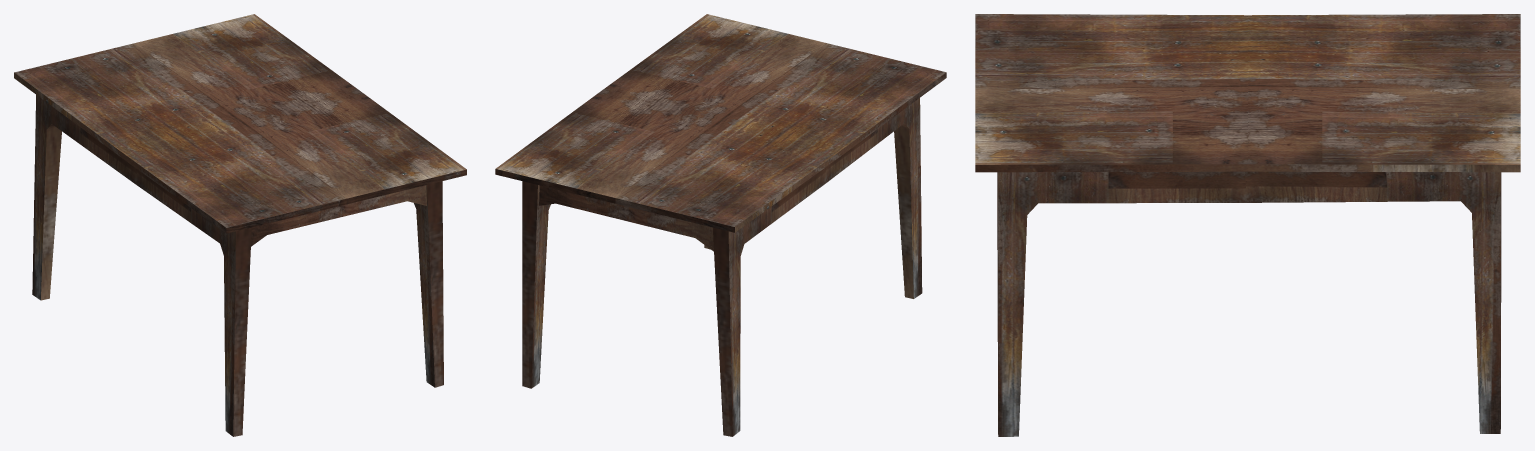
File: Stol_01.FBX
3 views of the same model, side by side, from view 1: azimuth 30°, elevation 25°; view 2: azimuth 150°, elevation 25°; view 3: azimuth 270°, elevation 25° (orthographic). The views are drawn at different scales.
Visible parts, largest first — view 1: Stol_01; view 2: Stol_01; view 3: Stol_01.
Part boxes in pixels (x1,y1,x2,y2): Stol_01: (14, 14, 466, 436); Stol_01: (495, 14, 946, 436); Stol_01: (975, 14, 1520, 436).
Size of the model in its own units: 0.9383 by 0.8257 by 1.44.
